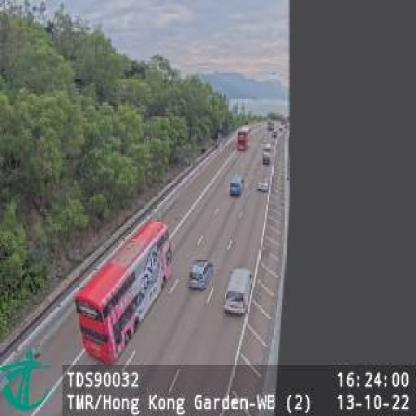Bus: (74, 219, 174, 366), (238, 126, 251, 152)
Car: (223, 268, 251, 317), (187, 257, 214, 290), (229, 173, 243, 197), (262, 148, 272, 164), (258, 179, 268, 192)
